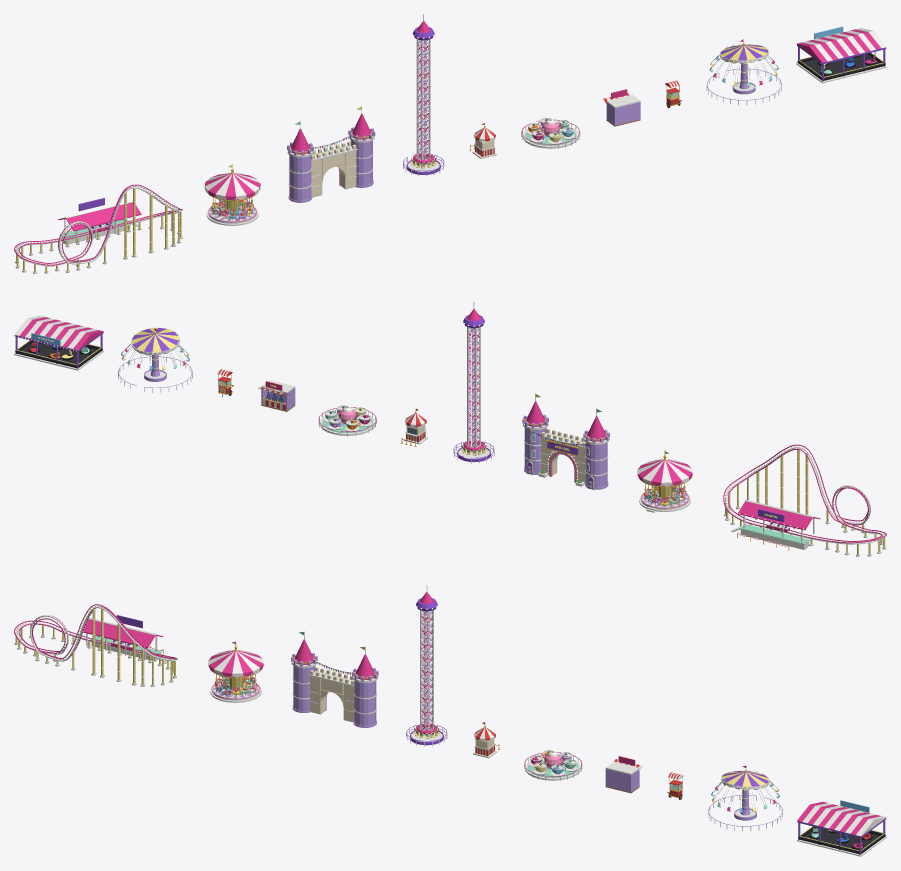
The model's file is ThemePark.fbx.
The picture shows the model from 3 angles, top to bottom: view 1: azimuth 30°, elevation 25°; view 2: azimuth 150°, elevation 25°; view 3: azimuth 330°, elevation 25°; orthographic projection.
Visible parts, largest first — view 1: RollerCoaster, RollerCoaster_HotPink, CastleGate_Lilac, DropTower_White, CastleGate_Cream, RollerCoaster_Lemon, BumperCars_White, Carousel_White, BumperCars_HotPink, TeacupRide_White, Carousel_HotPink, CastleGate_White (+5 smaller); view 2: RollerCoaster, RollerCoaster_HotPink, CastleGate_Lilac, DropTower_White, RollerCoaster_Lemon, Carousel_White, BumperCars_White, CastleGate_Cream, CastleGate_White, BumperCars_HotPink, TeacupRide_White, Carousel_HotPink (+7 smaller); view 3: RollerCoaster, CastleGate_Lilac, RollerCoaster_HotPink, DropTower_White, RollerCoaster_Lemon, CastleGate_Cream, BumperCars_White, Carousel_White, BumperCars_HotPink, TeacupRide_White, Carousel_HotPink, CastleGate_White (+5 smaller).
Part boxes in pixels (bbox=[...]): RollerCoaster: bbox=[14, 185, 182, 273]; RollerCoaster_HotPink: bbox=[14, 184, 182, 265]; CastleGate_Lilac: bbox=[287, 127, 375, 202]; DropTower_White: bbox=[403, 15, 444, 176]; CastleGate_Cream: bbox=[311, 141, 356, 197]; RollerCoaster_Lemon: bbox=[16, 188, 181, 271]; BumperCars_White: bbox=[796, 28, 886, 83]; Carousel_White: bbox=[204, 168, 259, 225]; BumperCars_HotPink: bbox=[796, 29, 881, 63]; TeacupRide_White: bbox=[521, 118, 580, 148]; Carousel_HotPink: bbox=[204, 173, 260, 212]; CastleGate_White: bbox=[287, 106, 374, 189]; RollerCoaster: bbox=[724, 446, 886, 556]; RollerCoaster_HotPink: bbox=[723, 444, 886, 543]; CastleGate_Lilac: bbox=[522, 414, 609, 489]; DropTower_White: bbox=[453, 303, 494, 463]; RollerCoaster_Lemon: bbox=[725, 448, 885, 554]; Carousel_White: bbox=[637, 451, 692, 512]; BumperCars_White: bbox=[14, 315, 103, 370]; CastleGate_Cream: bbox=[541, 428, 585, 483]; CastleGate_White: bbox=[523, 393, 609, 490]; BumperCars_HotPink: bbox=[19, 317, 103, 350]; TeacupRide_White: bbox=[318, 405, 376, 436]; Carousel_HotPink: bbox=[638, 459, 692, 502]; RollerCoaster: bbox=[14, 605, 177, 686]; CastleGate_Lilac: bbox=[291, 653, 378, 727]; RollerCoaster_HotPink: bbox=[14, 604, 177, 659]; DropTower_White: bbox=[406, 587, 447, 746]; RollerCoaster_Lemon: bbox=[15, 609, 175, 685]; CastleGate_Cream: bbox=[309, 666, 354, 722]; BumperCars_White: bbox=[797, 803, 886, 856]; Carousel_White: bbox=[208, 641, 263, 702]; BumperCars_HotPink: bbox=[797, 801, 880, 848]; TeacupRide_White: bbox=[524, 750, 582, 781]; Carousel_HotPink: bbox=[209, 650, 263, 693]; CastleGate_White: bbox=[291, 631, 378, 714].
Bounding box in the file's own units: 532 × 91.23 × 42.44.
